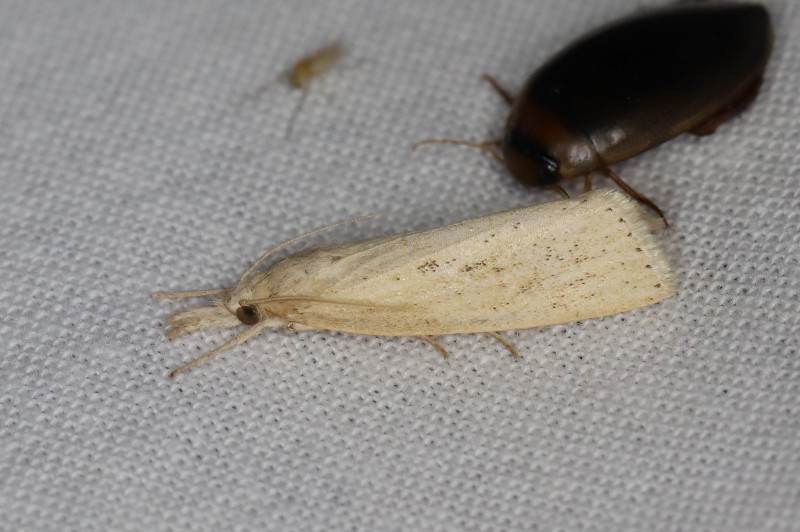Crambidae: (150, 181, 671, 385)
